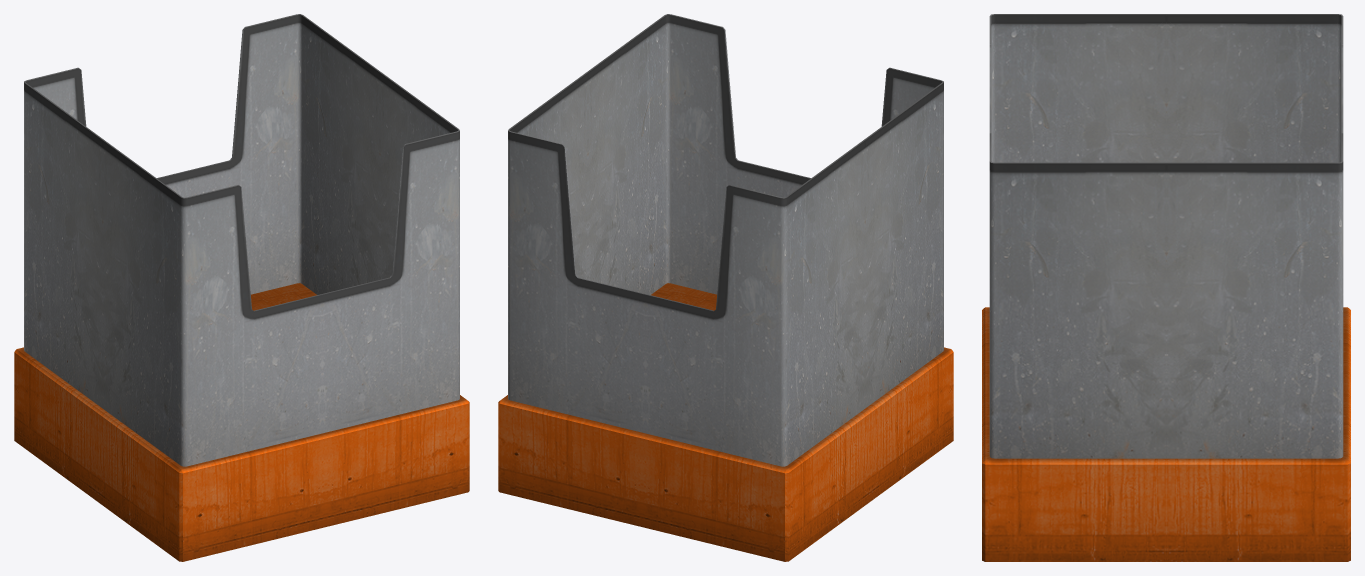
File: bin_orange.dae
3 renders of one model, left to right at view 1: azimuth 30°, elevation 25°; view 2: azimuth 150°, elevation 25°; view 3: azimuth 270°, elevation 25°, orthographic. The views are drawn at different scales.
Parts seen in each view (by area): view 1: Bin; view 2: Bin; view 3: Bin.
Part boxes in pixels (x1,y1,x2,y2): Bin: (14, 14, 469, 561); Bin: (498, 14, 953, 561); Bin: (982, 14, 1350, 561).
Bounding box in the file's own units: 668 × 668 × 791.
